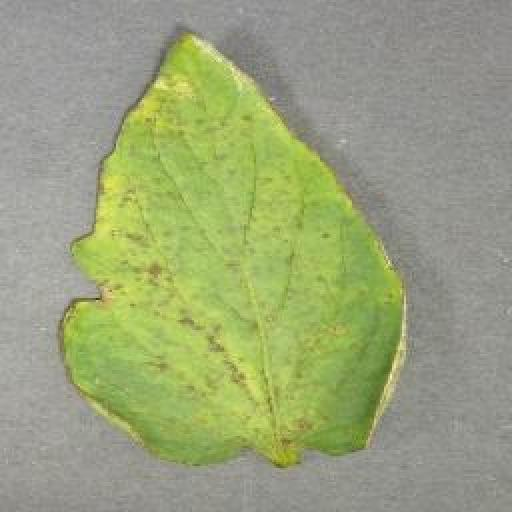Bacterial Spot: (58, 25, 410, 467)
